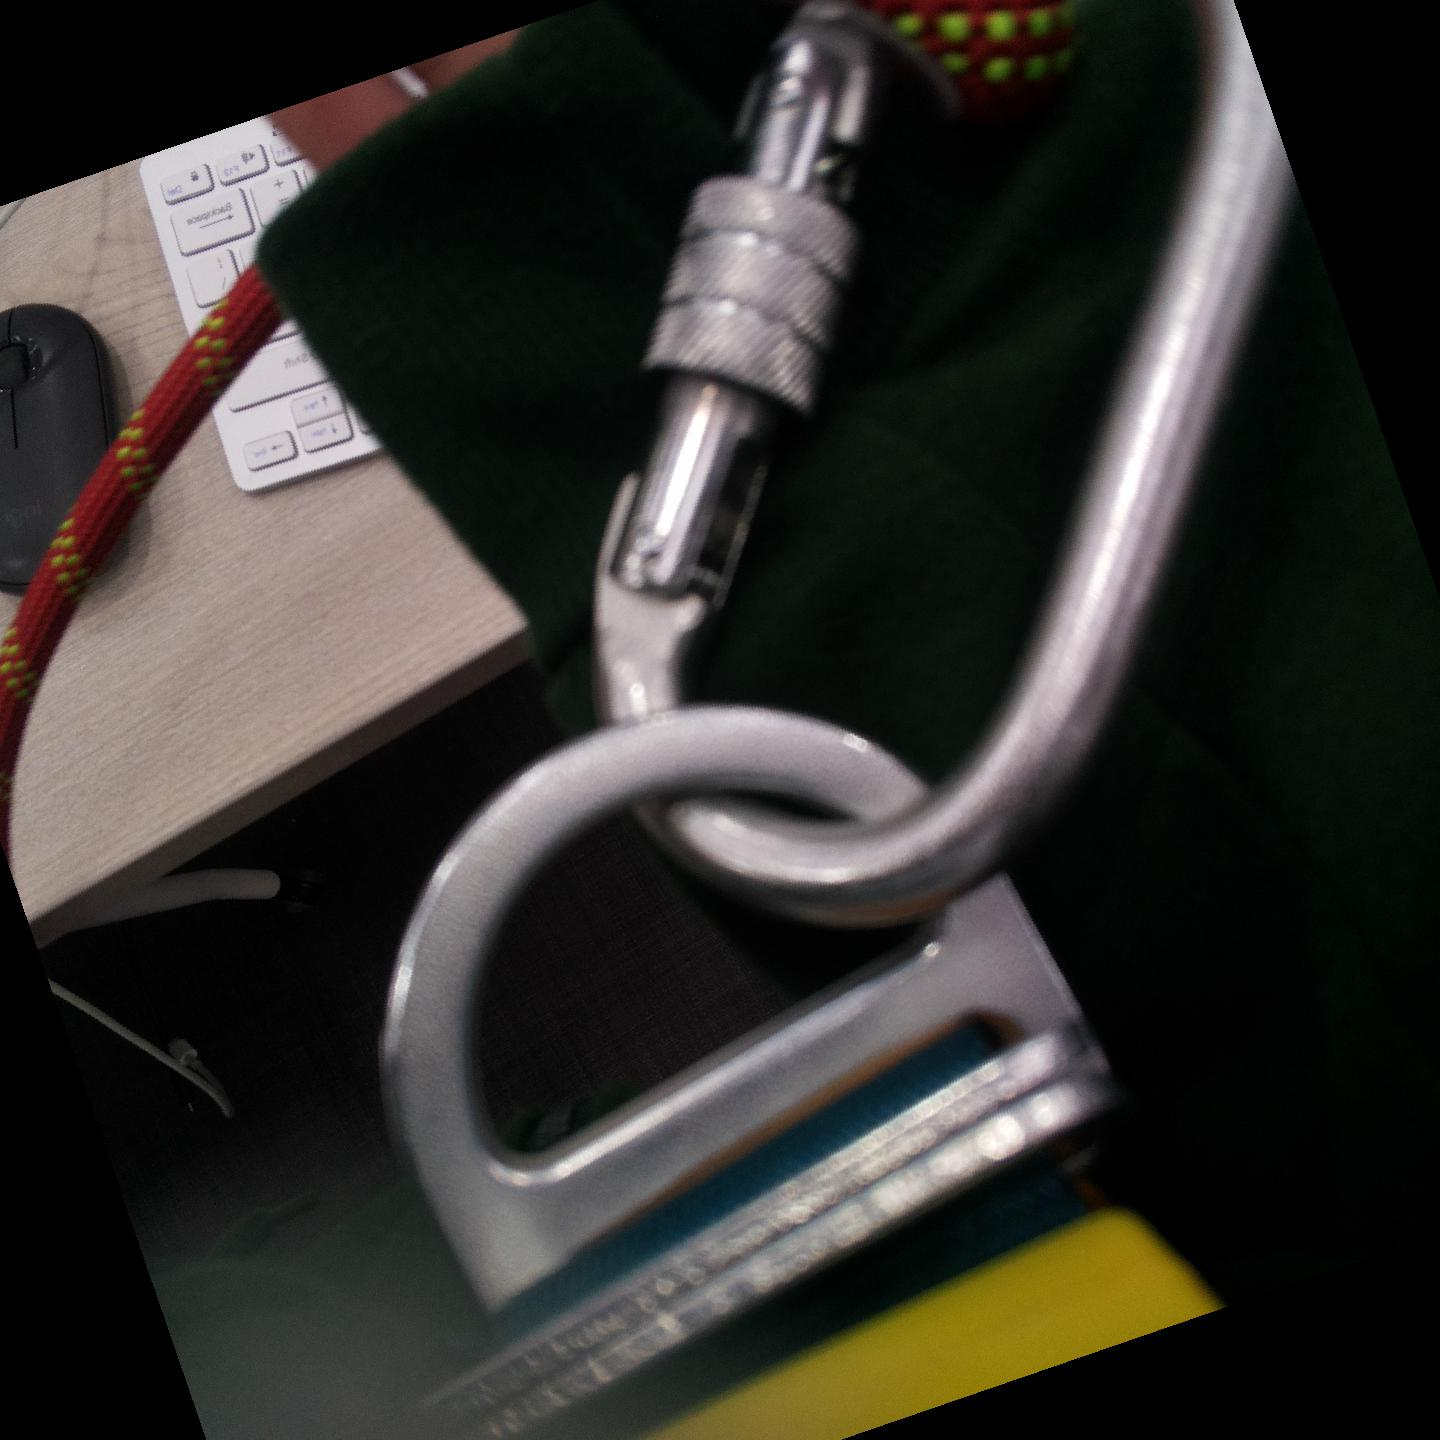SUCCESS: (603, 152, 1284, 940)
